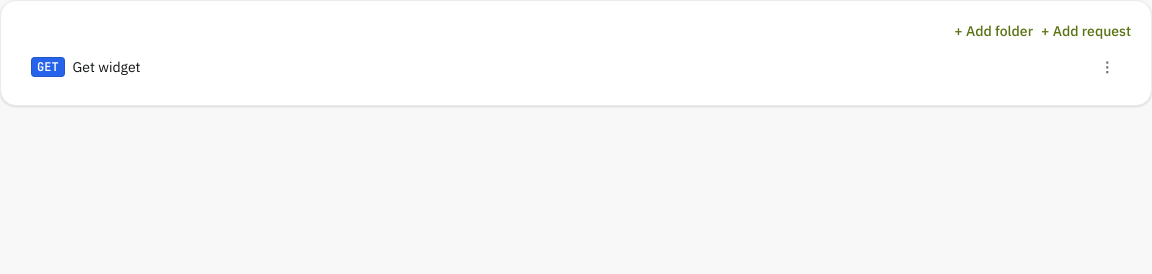
Test: CollectionTreeView › the actions menu closes after selecting an item
This screenshot has width=1152, height=274.
Click the button named "Actions for Get widget": [1107, 67] box x1=1095 y1=55 x2=1119 y2=79
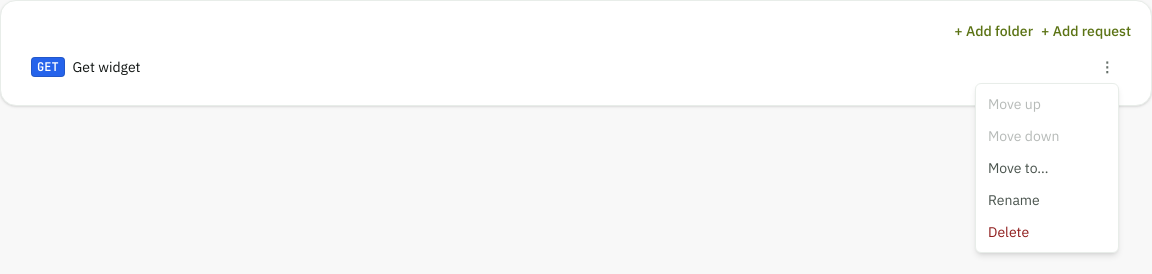
Result: the menu is shown at x1=975 y1=83 x2=1119 y2=253
Click the menu item "Rename": [1047, 200] box x1=976 y1=184 x2=1118 y2=216
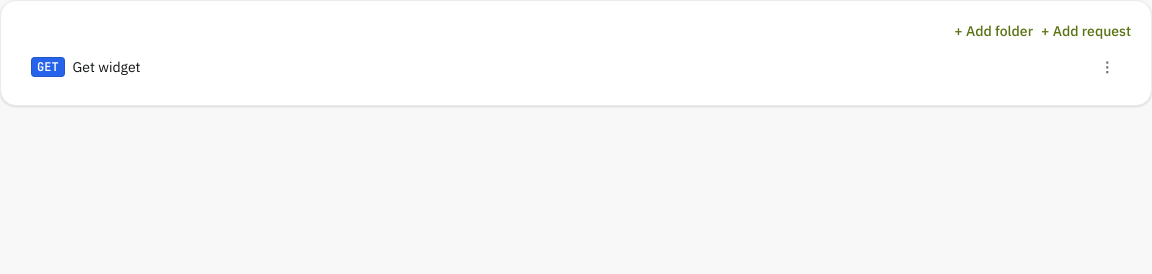
Result: the menu is gone
